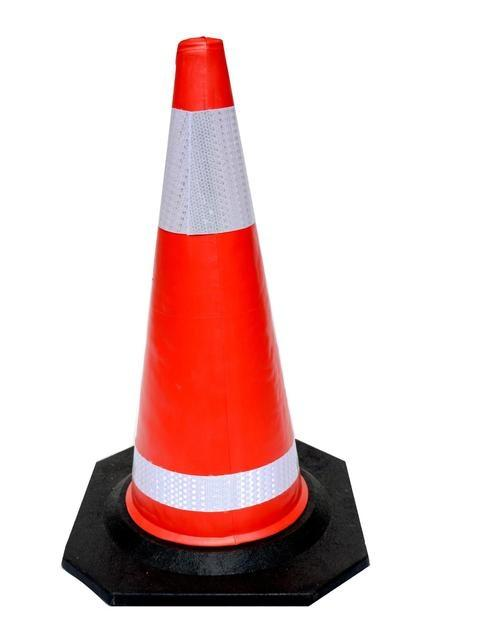cone_barrel: (113, 33, 319, 550)
